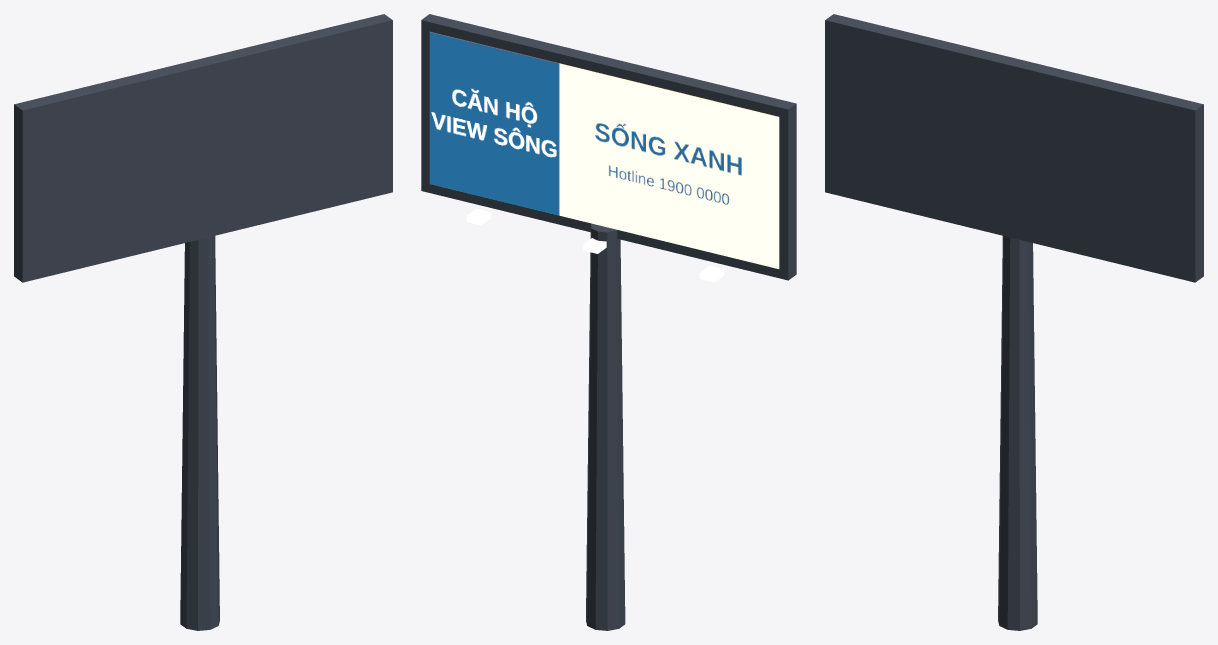
The model's file is billboard_apartments.glb.
3 renders of one model, left to right at view 1: azimuth 30°, elevation 25°; view 2: azimuth 150°, elevation 25°; view 3: azimuth 330°, elevation 25°, orthographic.
Visible parts, largest first — view 1: billboard; view 2: billboard; view 3: billboard.
Boxes of the visible parts, x1,y1,x2,y2 form: billboard: (14,14,392,630); billboard: (421,14,796,630); billboard: (825,14,1203,630).
Size of the model in its own units: 12.6 by 18.3 by 1.5.
Materials: 3 (1 with a texture image).
